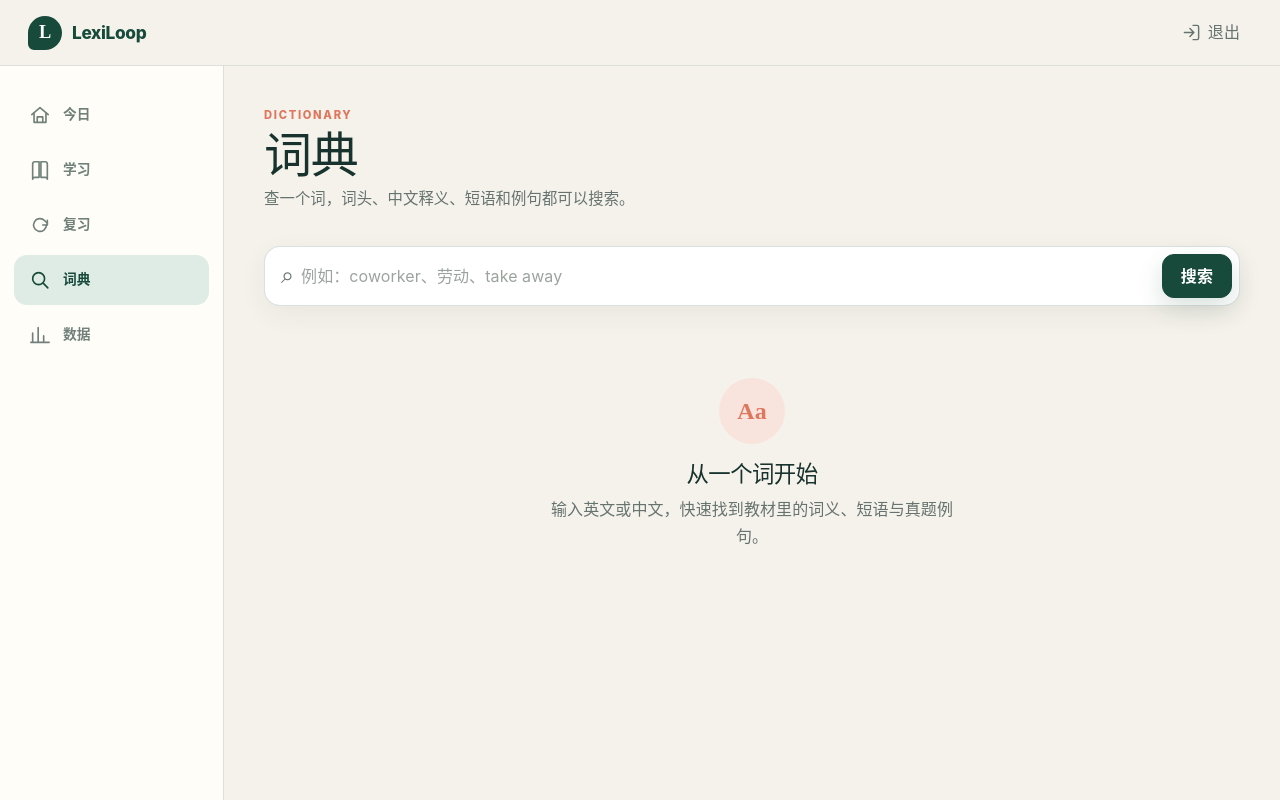
Test: dictionary search › highlights the matched portion of the matched field
The image size is (1280, 800).
Expected: the heading "词典" is shown, top-left (264, 125), bottom-right (358, 184)
Step 1. Type "abandon" into the search field named "搜索词或释义" → (728, 276), box top-left (301, 254), bottom-right (1155, 298)
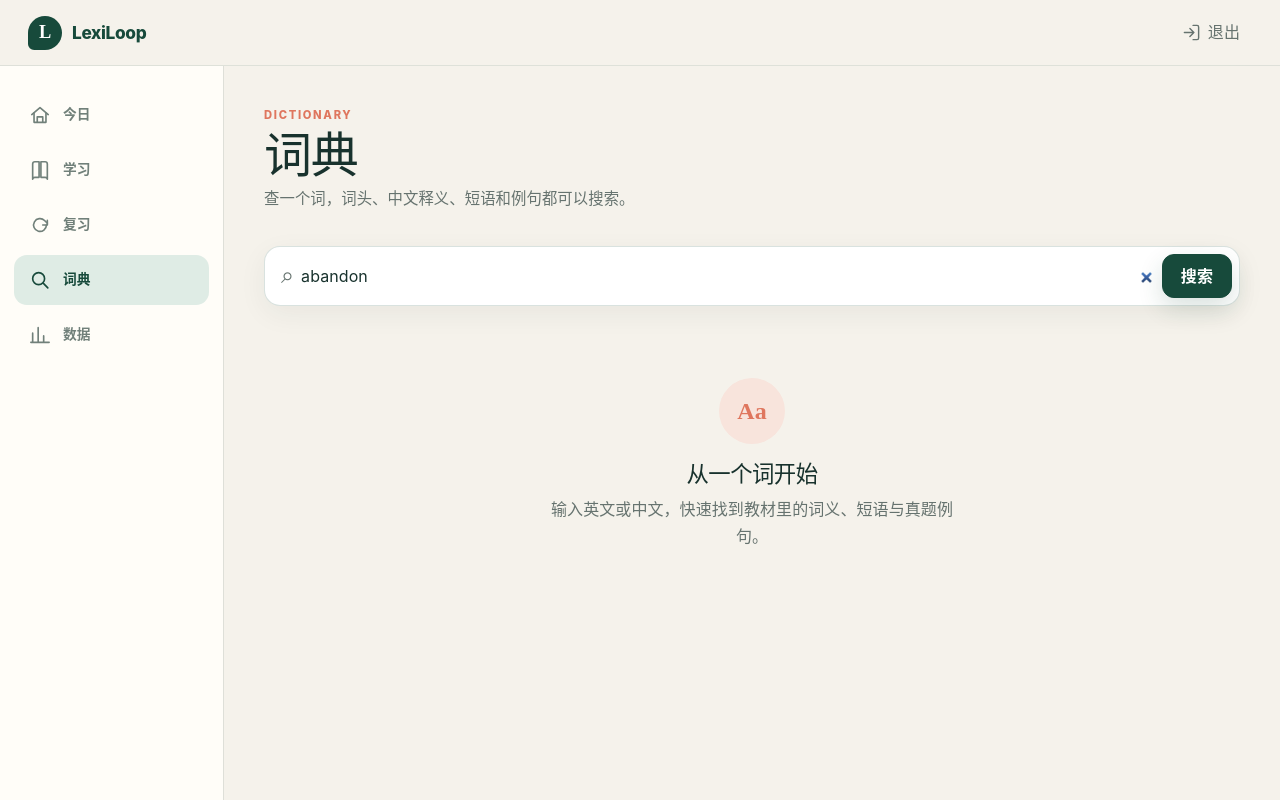
Step 2. Click the button "搜索" → (1197, 276), box top-left (1162, 254), bottom-right (1232, 298)
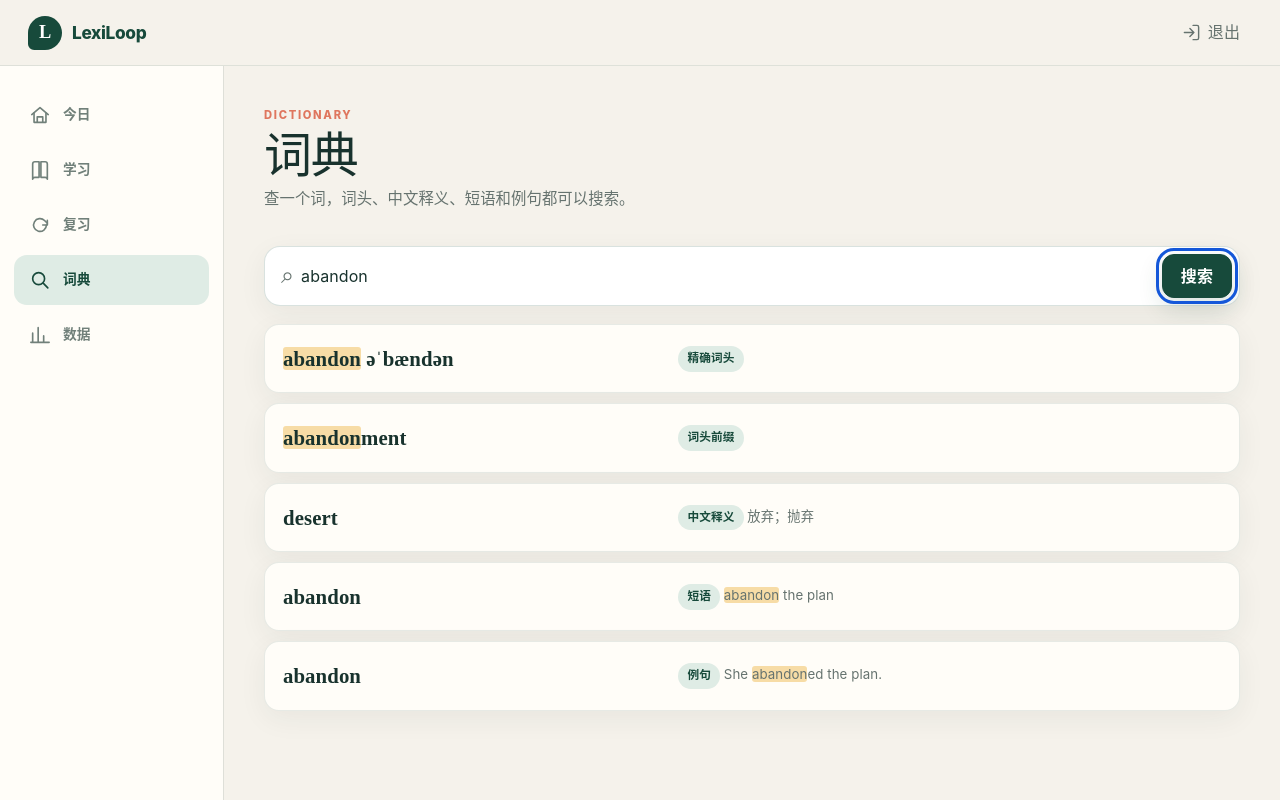
Now the list named "搜索结果" is shown, box top-left (264, 324), bottom-right (1240, 711)
